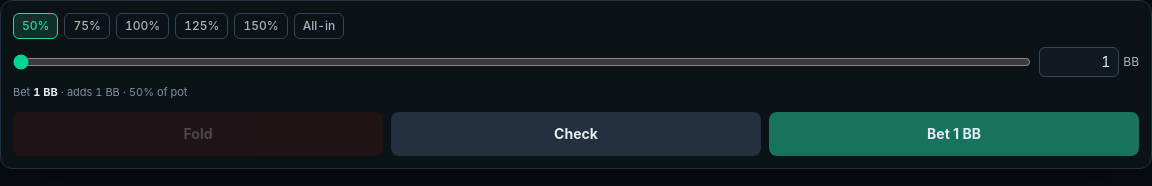
Test: ActionBar › disables fold when checking is free and rejects sub-minimum amounts
Expected: the button "Fold" is disabled, x1=13 y1=112 x2=383 y2=156
Expected: the button "Check" is enabled, x1=391 y1=112 x2=761 y2=156
Replace the text in the field with test id "amount-input" with "0.5" at (1079, 62), box x1=1039 y1=47 x2=1119 y2=77
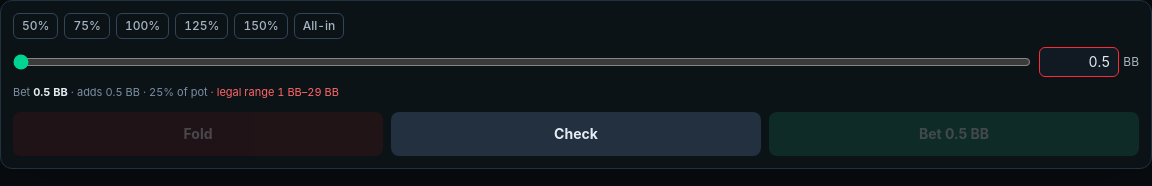
Result: the button "Bet 0.5 BB" is disabled at x1=769 y1=112 x2=1139 y2=156
Replace the text in the field with test id "amount-input" with "1.5" at (1079, 62), box x1=1039 y1=47 x2=1119 y2=77
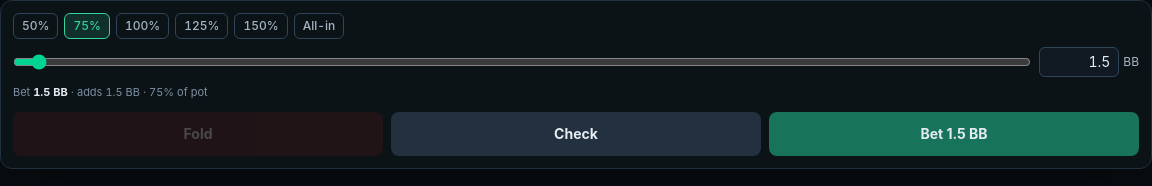
Result: the button "Bet 1.5 BB" is enabled at x1=769 y1=112 x2=1139 y2=156
